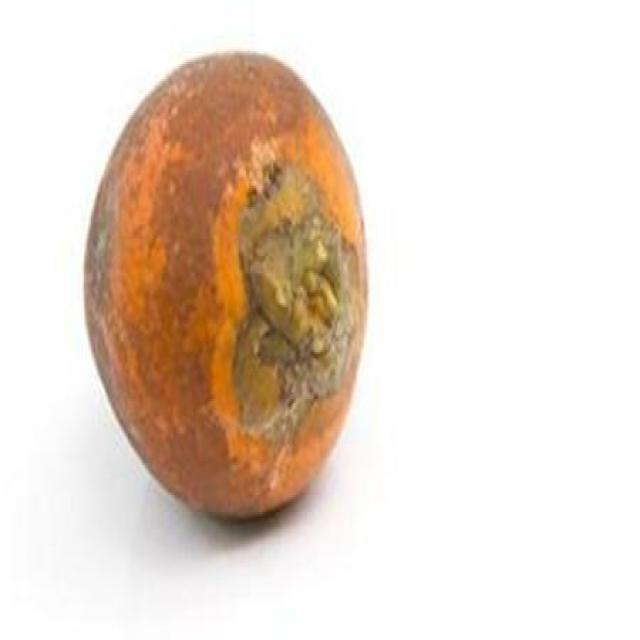good: (80, 51, 371, 525)
